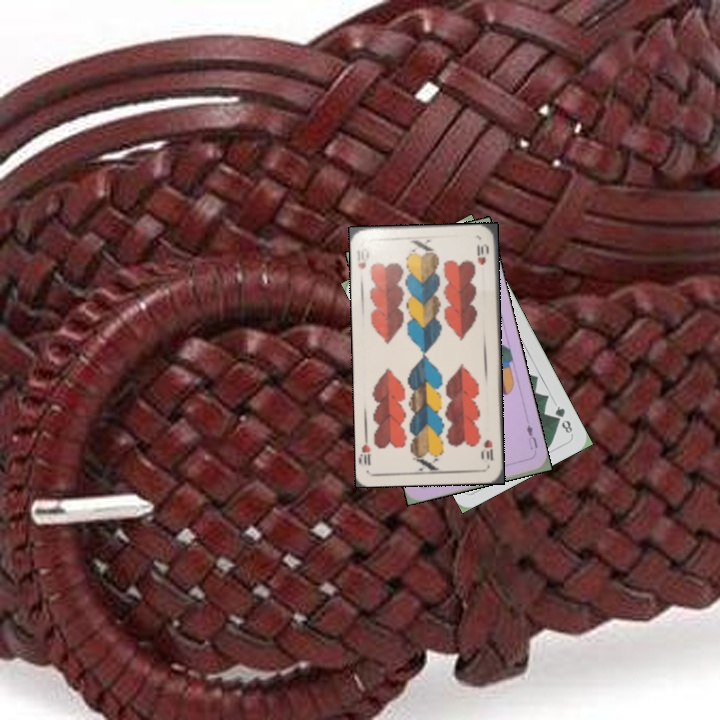EU: (522, 421, 540, 452)
G8: (551, 402, 575, 436)
H10: (353, 244, 371, 272), (479, 435, 496, 463)
